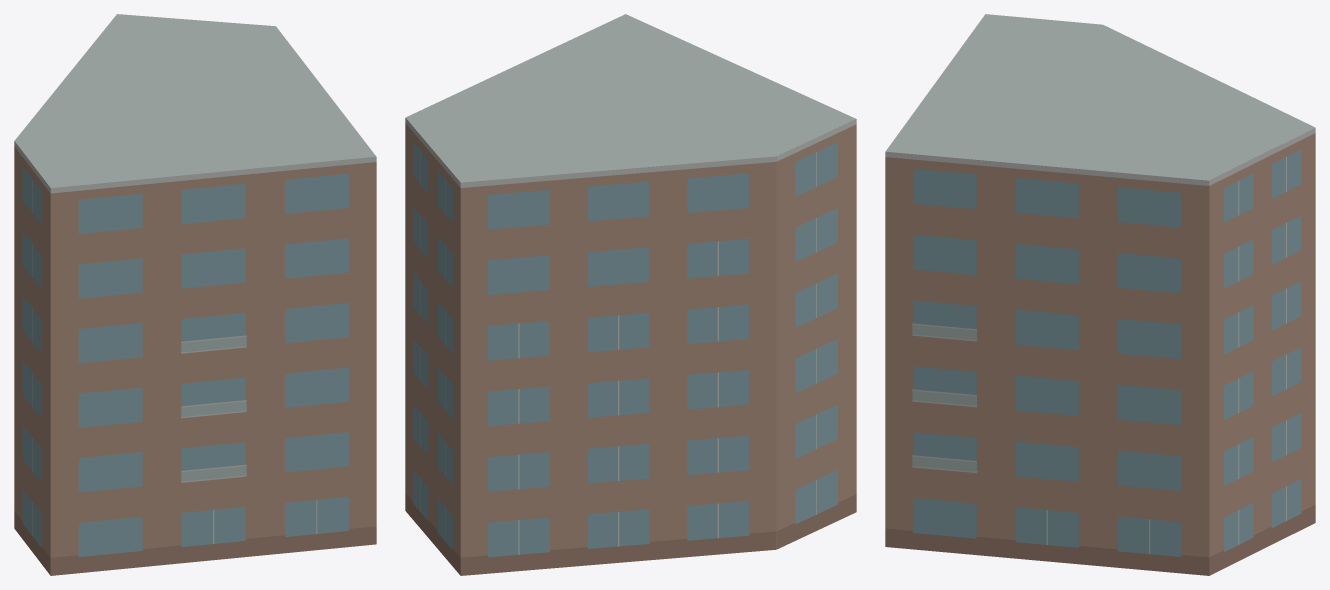
File: survey-upis-32820335.glb
The picture shows the model from 3 angles, left to right: view 1: azimuth 30°, elevation 25°; view 2: azimuth 150°, elevation 25°; view 3: azimuth 270°, elevation 25°; orthographic projection.
Visible parts, largest first — view 1: survey-upis-32820335.tmp; view 2: survey-upis-32820335.tmp; view 3: survey-upis-32820335.tmp.
Part boxes in pixels (box(x1,y1,x2,y2)): survey-upis-32820335.tmp: box(14, 14, 376, 575); survey-upis-32820335.tmp: box(405, 14, 856, 575); survey-upis-32820335.tmp: box(885, 14, 1315, 575).
Bounding box in the file's own units: 16.2 × 17.9 × 17.67.
